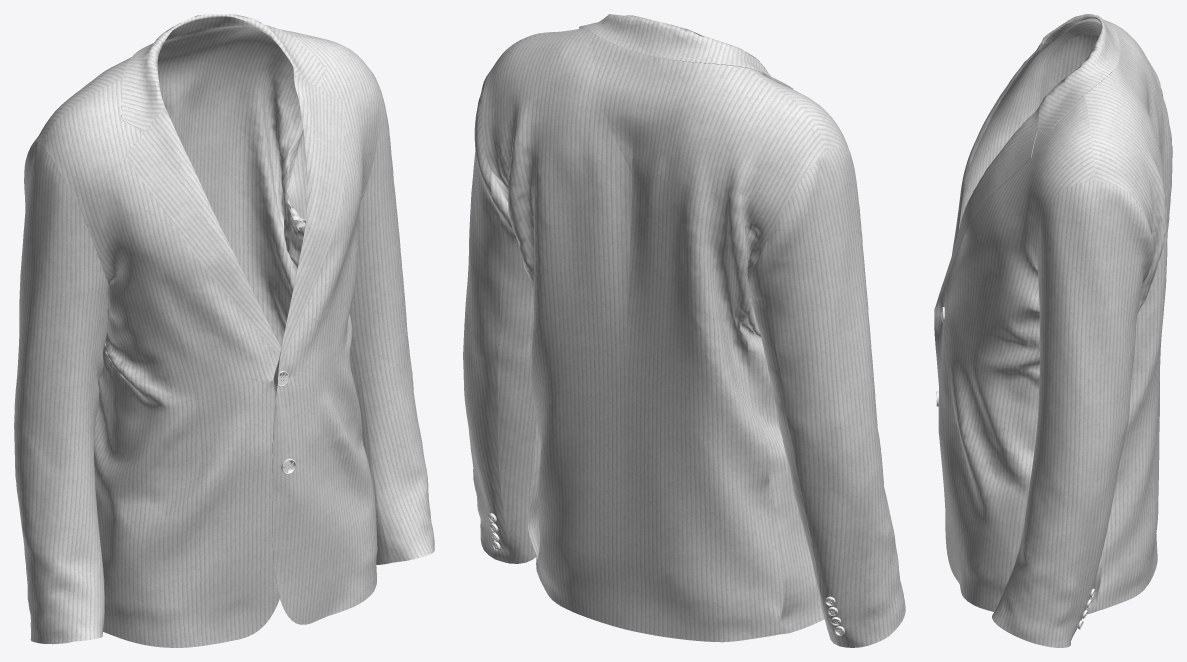
The picture shows the model from 3 angles, left to right: view 1: azimuth 30°, elevation 25°; view 2: azimuth 150°, elevation 25°; view 3: azimuth 270°, elevation 25°; orthographic projection. The views are drawn at different scales.
Visible parts, largest first — view 1: Body_Front, Collar, Collar_Stand; view 2: Body_Front, Collar; view 3: Body_Front, Collar.
Part boxes in pixels (x1=…): Body_Front: x1=14, y1=26, x2=434, y2=647; Collar: x1=121, y1=14, x2=326, y2=131; Collar_Stand: x1=165, y1=17, x2=254, y2=41; Body_Front: x1=463, y1=28, x2=905, y2=647; Collar: x1=579, y1=14, x2=793, y2=89; Body_Front: x1=934, y1=19, x2=1172, y2=647; Collar: x1=1037, y1=14, x2=1119, y2=131.
Size of the model in its own units: 55.94 by 77.6 by 30.93.
Materials: 4 (3 with a texture image).
